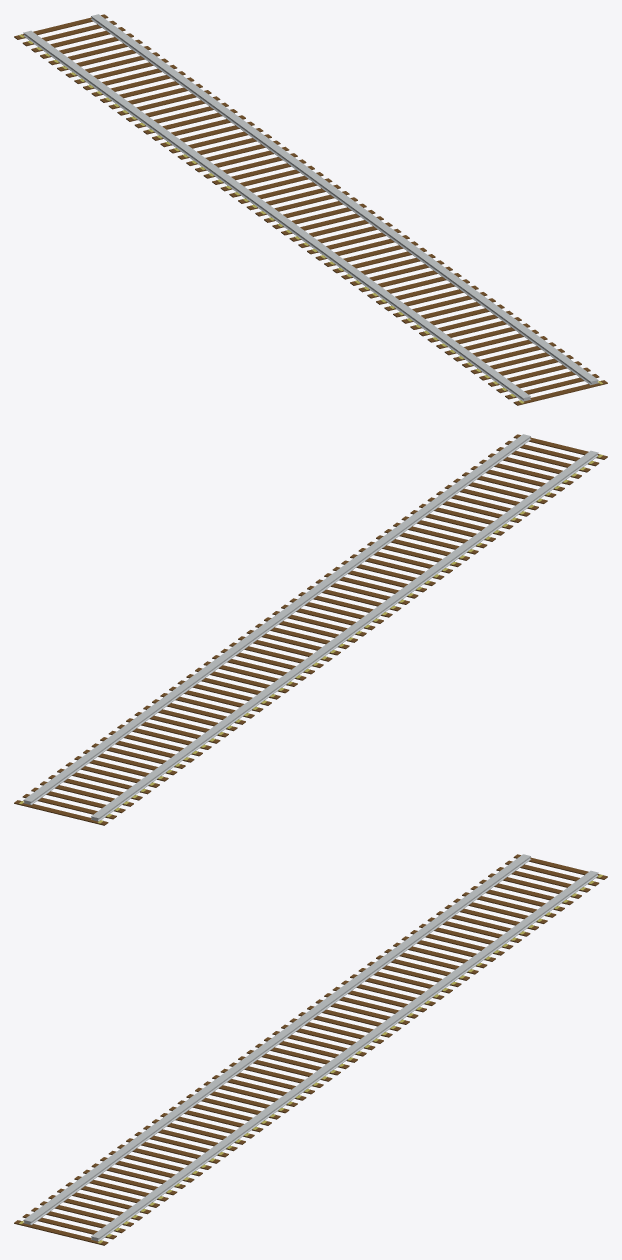
File: Tracks.fbx
3 views of the same model, one above another, from view 1: azimuth 30°, elevation 25°; view 2: azimuth 150°, elevation 25°; view 3: azimuth 330°, elevation 25° (orthographic).
Parts seen in each view (by area): view 1: pCube310; view 2: pCube310; view 3: pCube310.
Part boxes in pixels (x1=…): pCube310: x1=14, y1=14, x2=607, y2=405; pCube310: x1=14, y1=434, x2=607, y2=825; pCube310: x1=14, y1=854, x2=607, y2=1245.
Size of the model in its own units: 6.07 by 0.2767 by 58.44.
